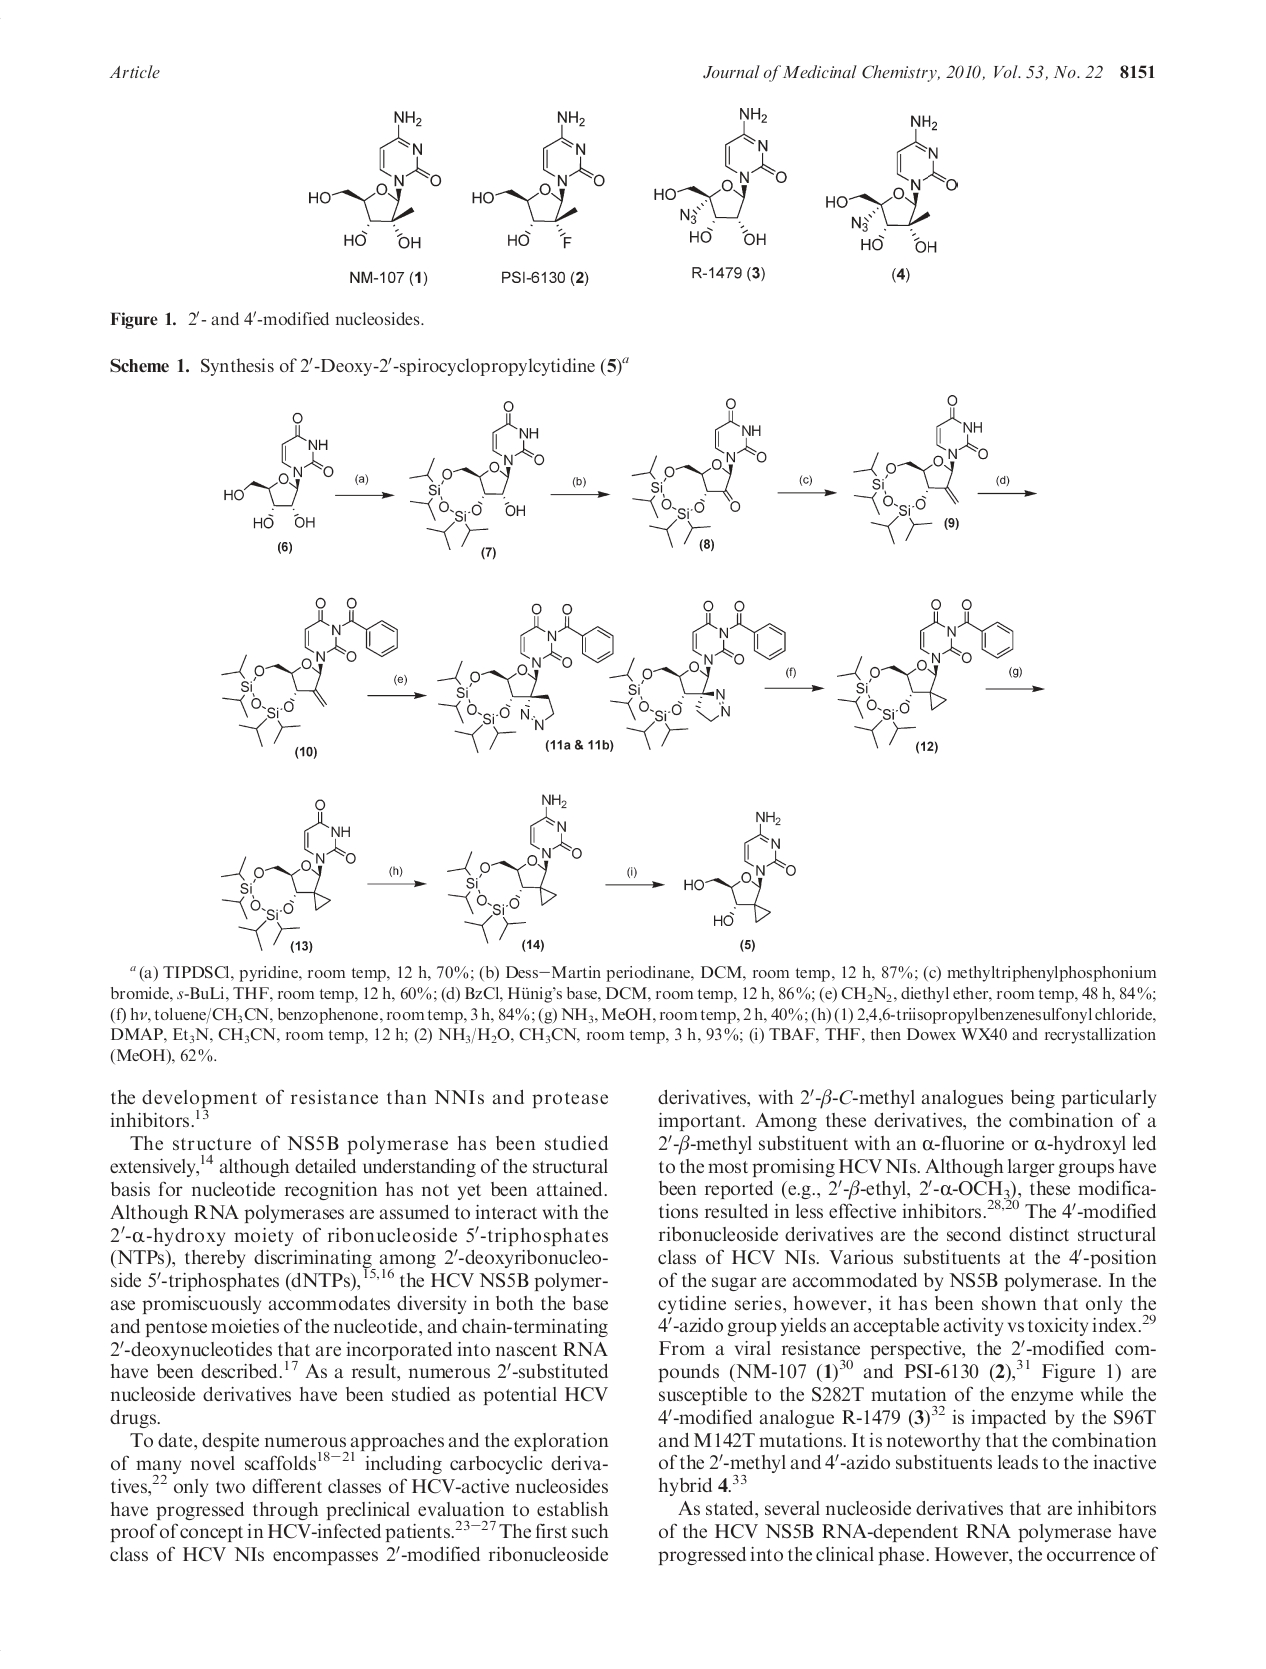exist_molecular: (221, 594, 400, 747), (436, 602, 616, 755), (836, 597, 1015, 749), (609, 600, 789, 749), (852, 392, 991, 547), (630, 395, 769, 548), (445, 791, 582, 946), (219, 798, 356, 951), (410, 402, 547, 551), (824, 110, 961, 254), (472, 106, 608, 251), (307, 108, 443, 250), (653, 106, 789, 243), (221, 412, 336, 533), (684, 809, 798, 928)
